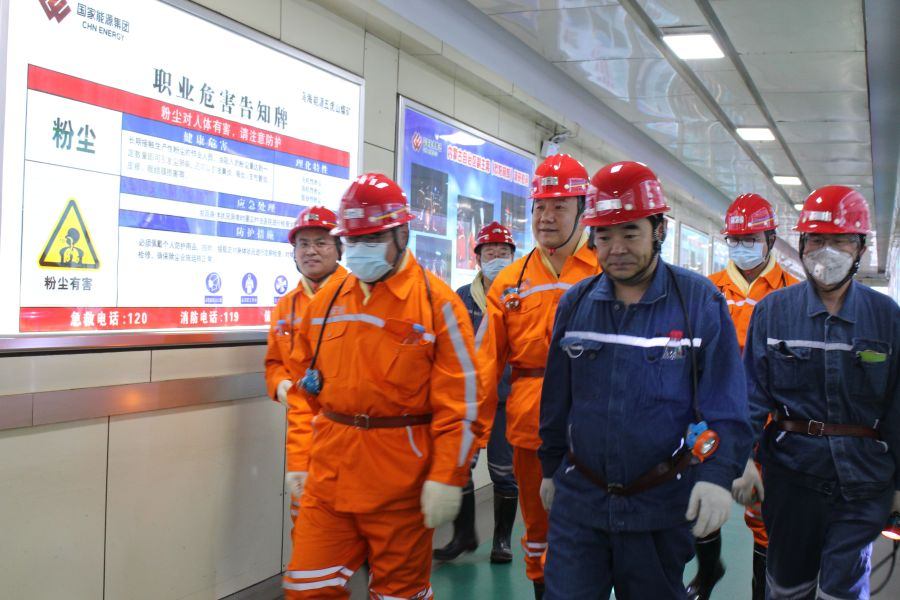helmet: (585, 161, 678, 281), (524, 146, 593, 259), (712, 187, 782, 274)
